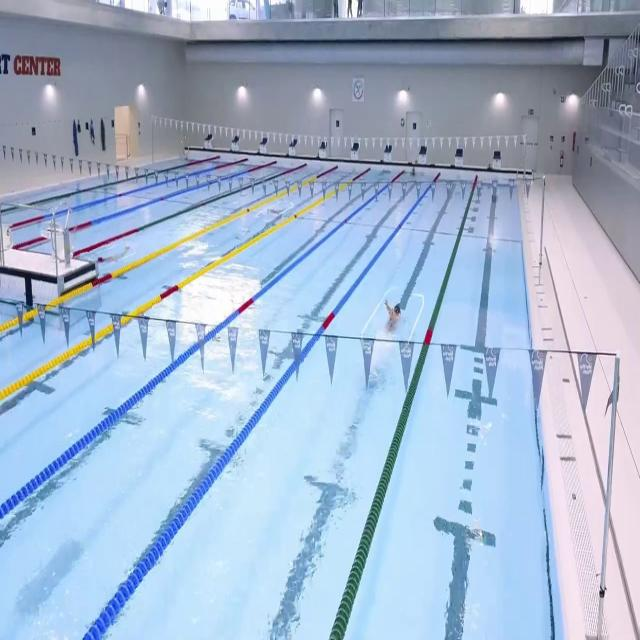Swimming: (378, 296, 408, 342), (95, 240, 132, 266), (264, 203, 292, 224)
